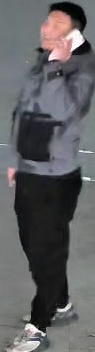phone: (40, 19, 91, 125)
